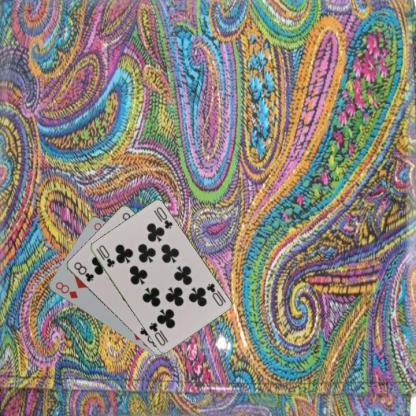10c: (94, 242, 116, 269), (203, 280, 224, 308)
8c: (71, 260, 95, 283)
8d: (53, 279, 79, 300)
